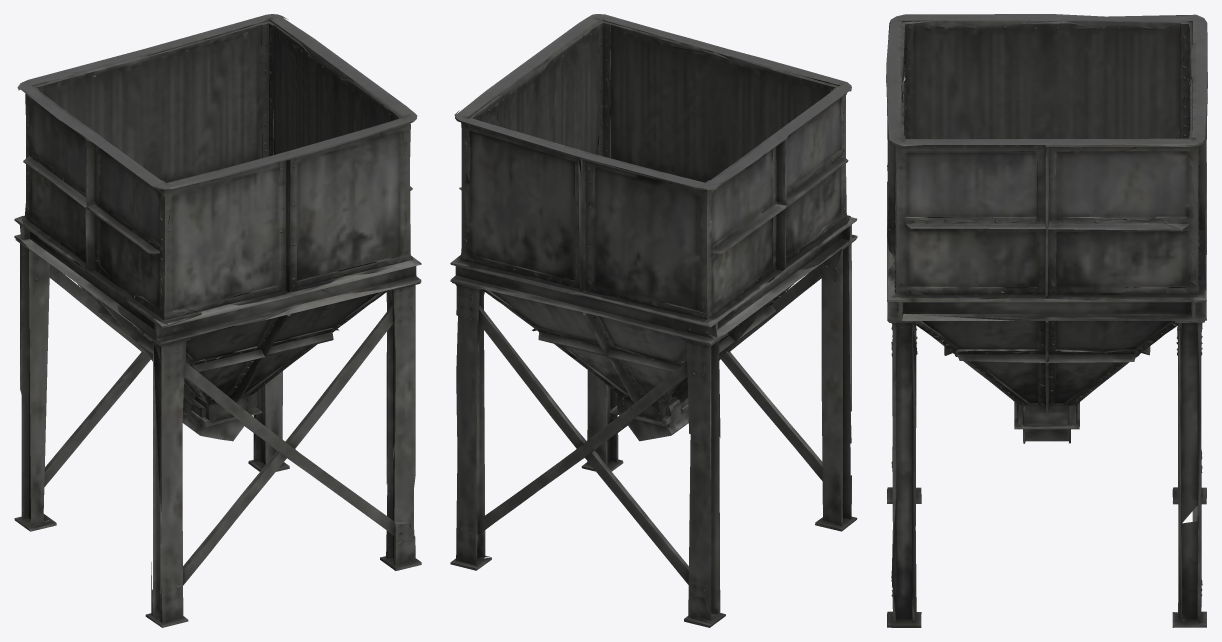
File: siebhaus_hopper.glb
The picture shows the model from 3 angles, left to right: view 1: azimuth 30°, elevation 25°; view 2: azimuth 150°, elevation 25°; view 3: azimuth 270°, elevation 25°; orthographic projection. The views are drawn at different scales.
Visible parts, largest first — view 1: main; view 2: main; view 3: main.
Part boxes in pixels (box(x1,y1,x2,y2)): main: box(14, 14, 421, 627); main: box(450, 14, 857, 627); main: box(886, 14, 1207, 627).
Size of the model in its own units: 2.61 by 4.2 by 2.53.
Materials: 1 (1 with a texture image).
